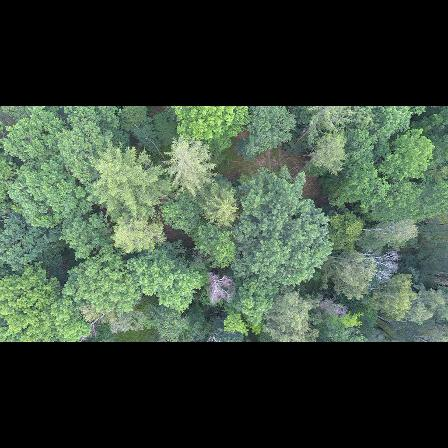Dead: (359, 247, 403, 282), (206, 270, 237, 307), (315, 293, 350, 321)
